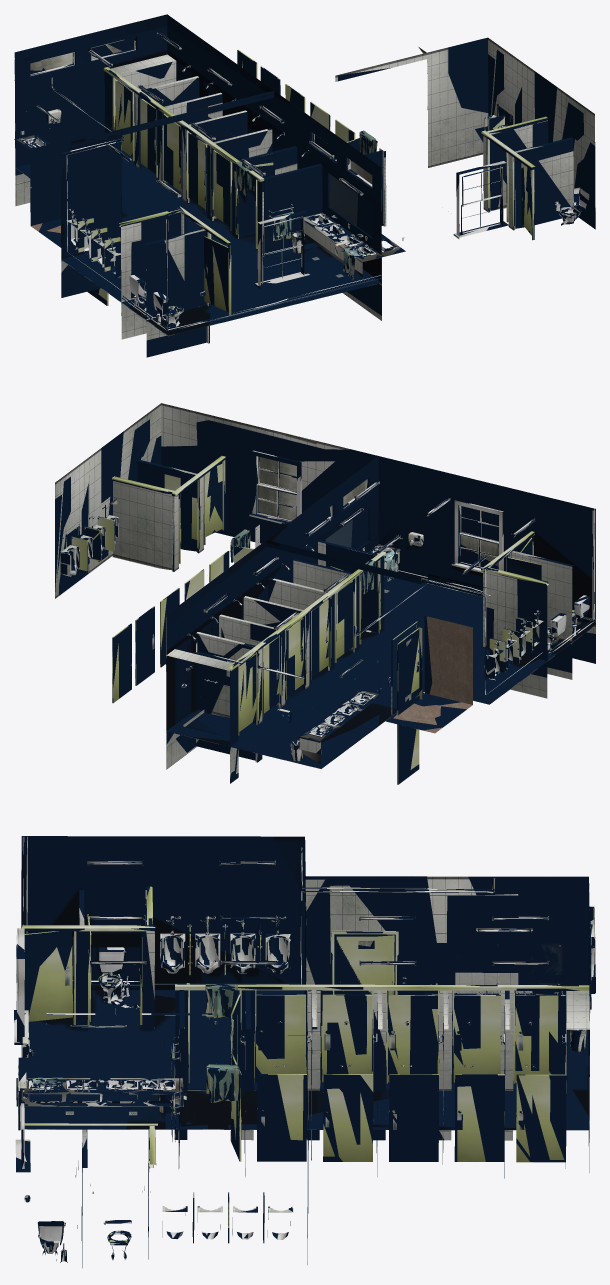
The model's file is toilet.glb.
3 views of the same model, one above another, from view 1: azimuth 30°, elevation 25°; view 2: azimuth 150°, elevation 25°; view 3: azimuth 270°, elevation 25° (orthographic). The views are drawn at different scales.
Parts seen in each view (by area): view 1: BackSide_0 (×2), FrontSide_12, FrontSide_11, FrontSide_6, FrontSide_5, FrontSide_1, FrontSide_16, FrontSide_10, FrontSide_0, FrontSide_4, FrontSide_9, FrontSide_14; view 2: BackSide_0 (×2), FrontSide_12, FrontSide_11, FrontSide_6, FrontSide_5, FrontSide_15, FrontSide_16, FrontSide_1, FrontSide_9, FrontSide_10, FrontSide_14; view 3: BackSide_0 (×2), FrontSide_11, FrontSide_12, FrontSide_6, FrontSide_9, FrontSide_5, FrontSide_1, FrontSide_16, FrontSide_10, FrontSide_14, FrontSide_4.
Boxes of the visible parts, x1,y1,x2,y2 form: BackSide_0 (×2): (14, 14, 595, 357); FrontSide_12: (14, 23, 595, 343); FrontSide_11: (78, 49, 547, 315); FrontSide_6: (24, 15, 382, 335); FrontSide_5: (30, 40, 506, 330); FrontSide_1: (23, 138, 589, 327); FrontSide_16: (20, 32, 404, 255); FrontSide_10: (234, 131, 377, 280); FrontSide_0: (329, 174, 357, 225); FrontSide_4: (16, 135, 400, 274); FrontSide_9: (66, 115, 505, 277); FrontSide_14: (19, 65, 522, 293); BackSide_0 (×2): (55, 419, 595, 784); FrontSide_12: (55, 403, 595, 777); FrontSide_11: (71, 456, 546, 784); FrontSide_6: (166, 479, 595, 754); FrontSide_5: (196, 450, 595, 694); FrontSide_15: (393, 616, 472, 733); FrontSide_16: (203, 481, 534, 735); FrontSide_1: (309, 546, 589, 736); FrontSide_9: (61, 515, 543, 680); FrontSide_10: (230, 529, 398, 594); FrontSide_14: (62, 507, 539, 733); BackSide_0 (×2): (14, 836, 595, 1267); FrontSide_11: (22, 886, 589, 1232); FrontSide_12: (21, 869, 594, 1264); FrontSide_6: (21, 836, 592, 1155); FrontSide_9: (160, 933, 293, 1239); FrontSide_5: (14, 836, 595, 1168); FrontSide_1: (24, 947, 437, 1261); FrontSide_16: (22, 860, 549, 1091); FrontSide_10: (32, 984, 239, 1140); FrontSide_14: (23, 916, 566, 1193); FrontSide_4: (16, 993, 591, 1106).
Size of the model in its own units: 141 by 58.28 by 123.
18 materials, 18 textured.
